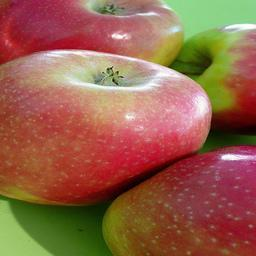apple: (1, 49, 214, 204), (101, 145, 256, 256), (1, 1, 184, 67), (169, 24, 256, 136)
